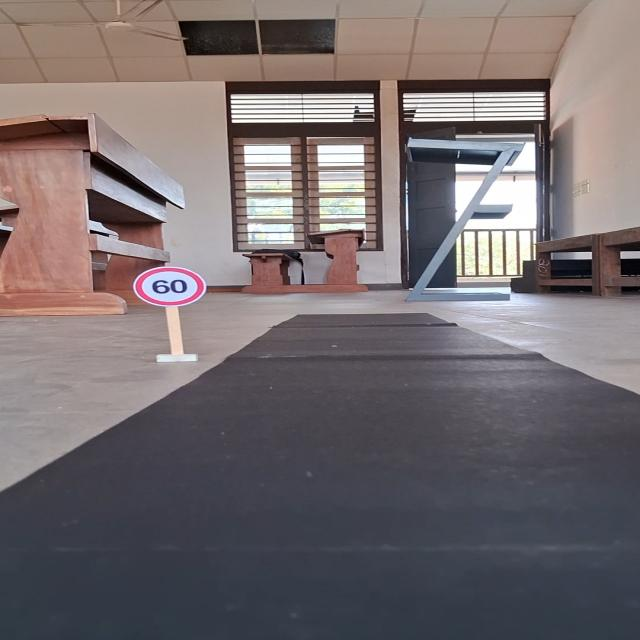Speed60: (133, 266, 206, 308)
